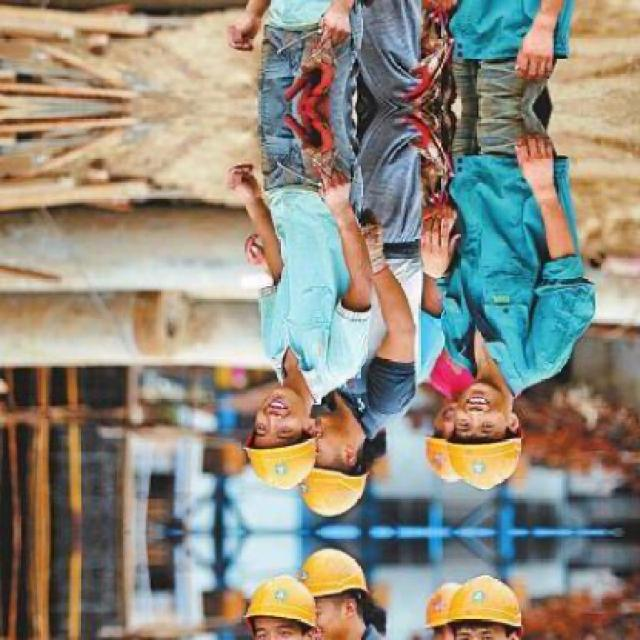con casco: (224, 380, 338, 486), (424, 411, 549, 485), (289, 462, 391, 520)
